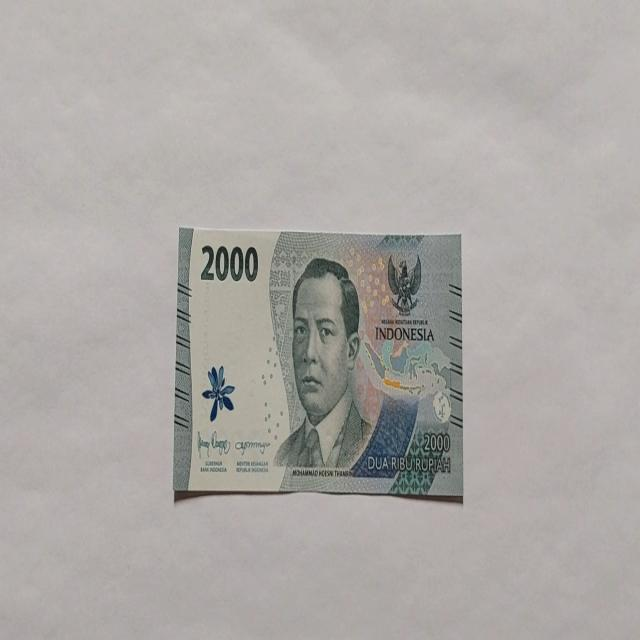dua ribu rupiah: (173, 226, 463, 500), (272, 256, 376, 475)
